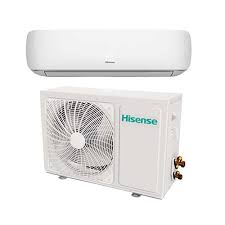ac: (25, 26, 195, 84)
